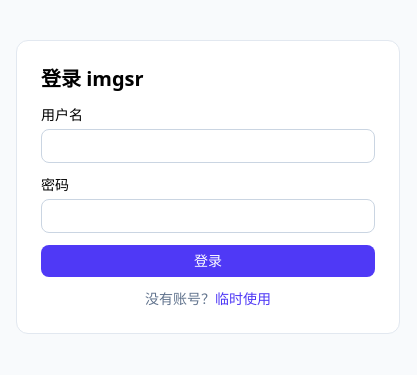
a wrong password shows the server message
This screenshot has width=417, height=375.
Type "alice" into the field labelled "用户名" at (208, 146), box [41, 129, 375, 163]
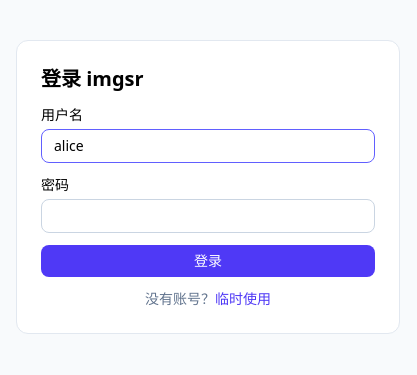
Type "nope" into the password field labelled "密码" at (208, 216), box [41, 199, 375, 233]
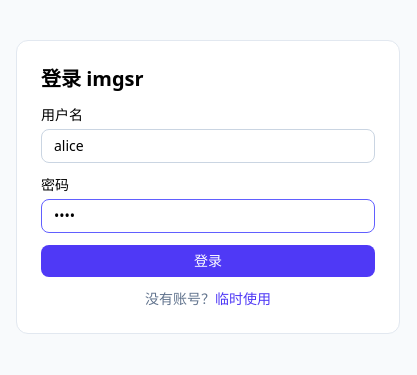
Click the button "登录" at (208, 261), box [41, 245, 375, 277]
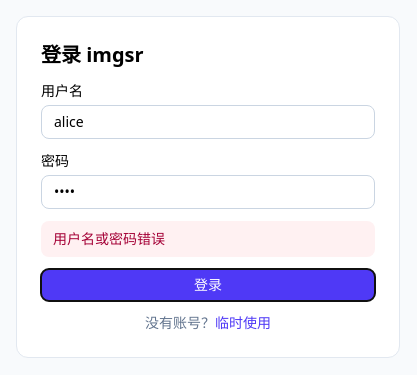
Now the message reads "用户名或密码错误", box [53, 229, 165, 248]
